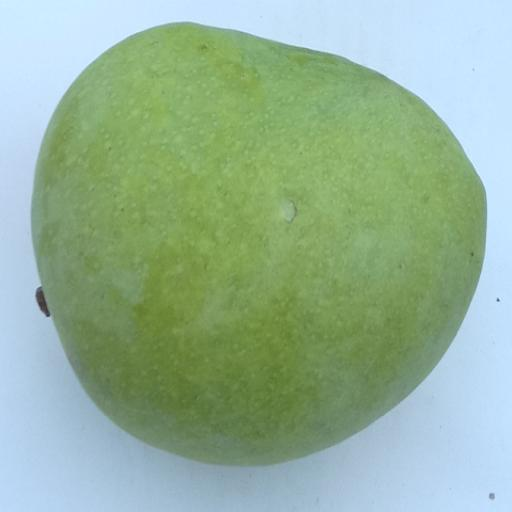mango-unripe: (13, 14, 501, 486)
